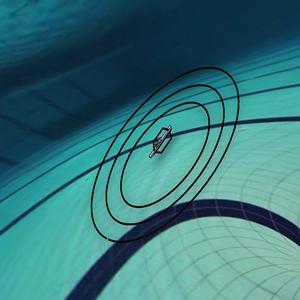circle: (69, 43, 253, 255)
submarine: (140, 119, 184, 162)
